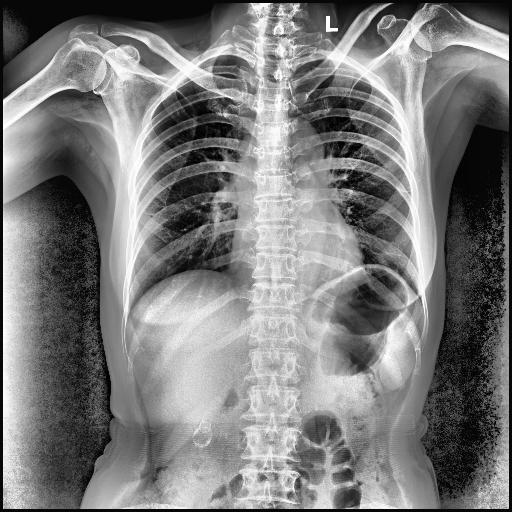0- Aortic enlargement: (279, 115, 327, 181), (276, 116, 323, 174), (279, 119, 324, 171)
